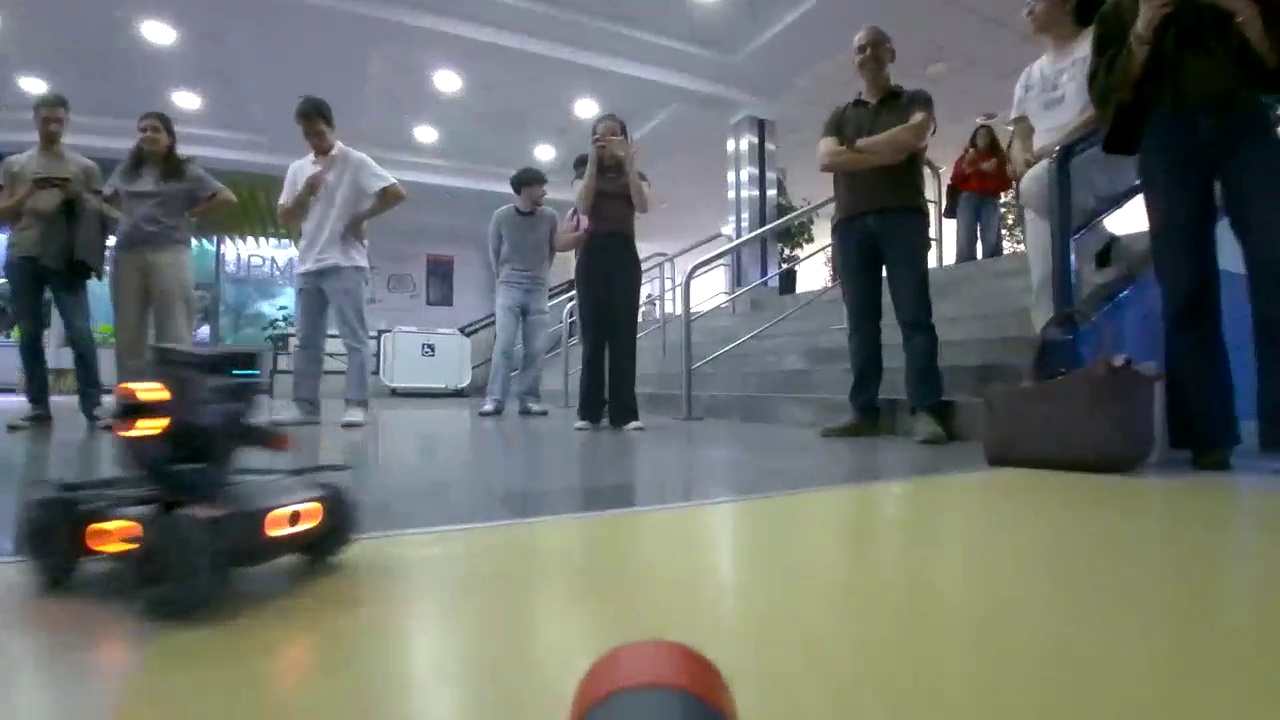robot: (16, 341, 359, 619)
